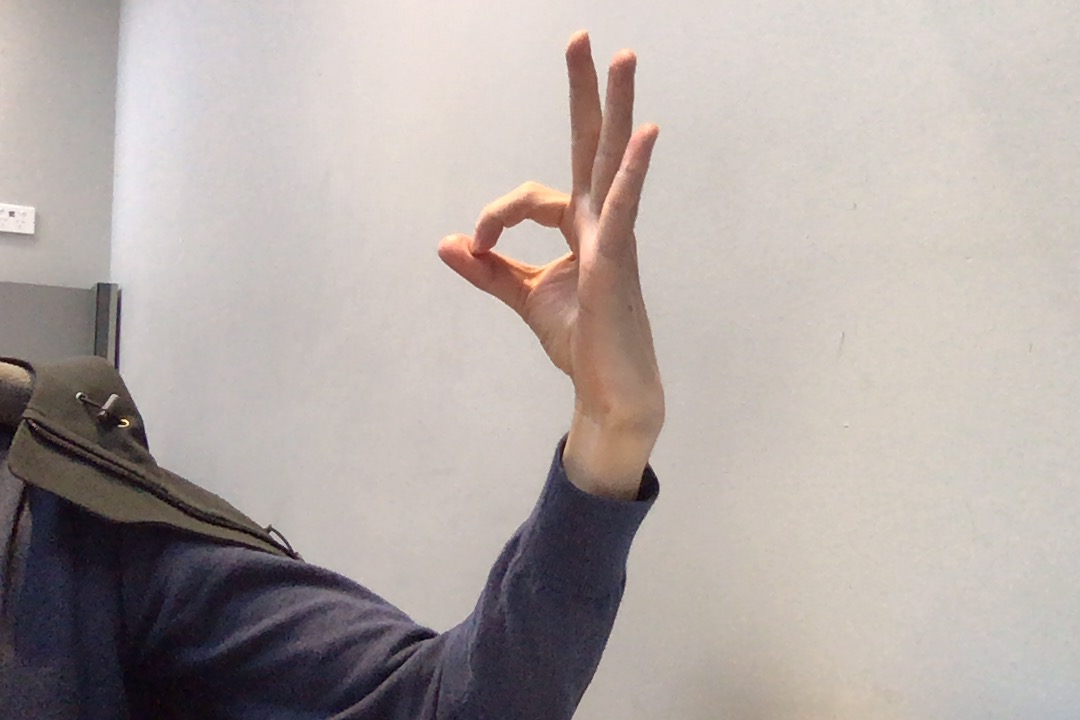oksign: (423, 23, 678, 398)
